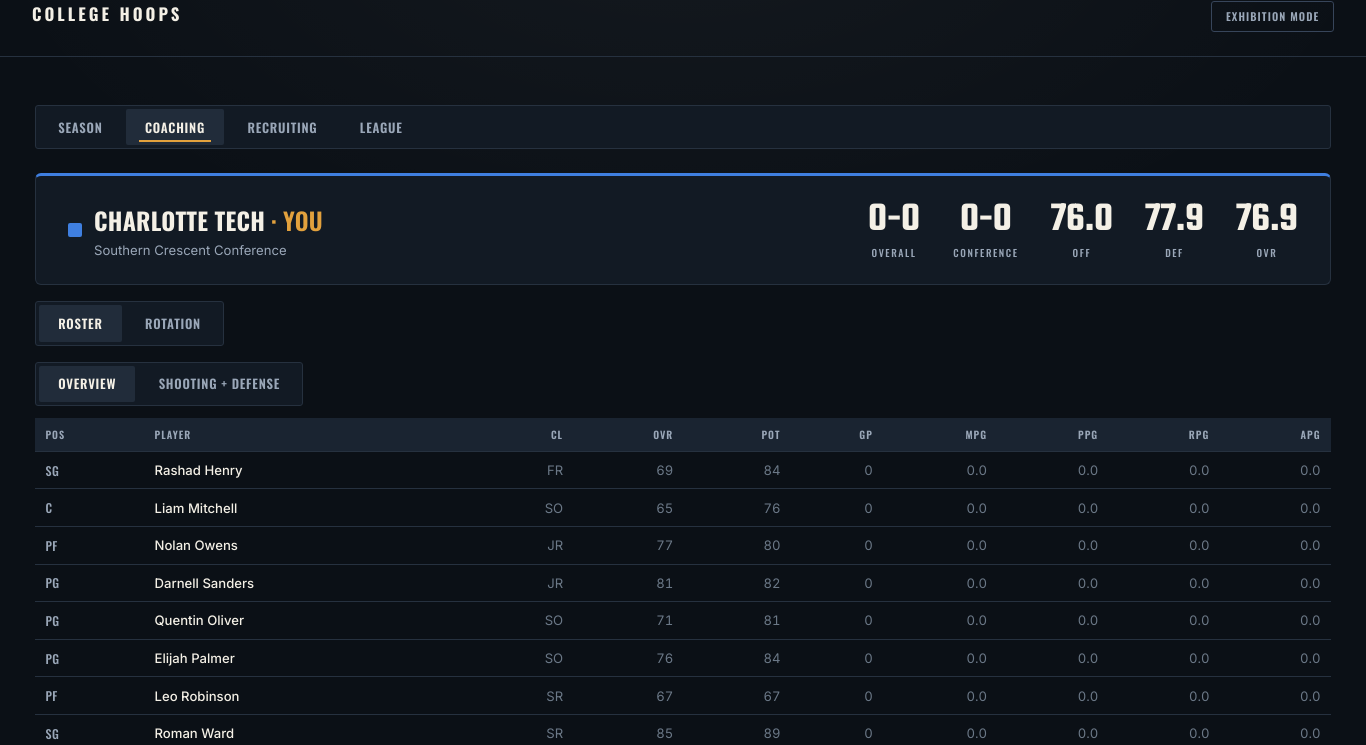
Scenario: Coaching Rotation — Simple / Advanced › discards an uncommitted Simple edit back to the committed Rotation
Click the button "Rotation" at point(173, 323), box top-left (126, 305), bottom-right (220, 342)
(page scrolled)
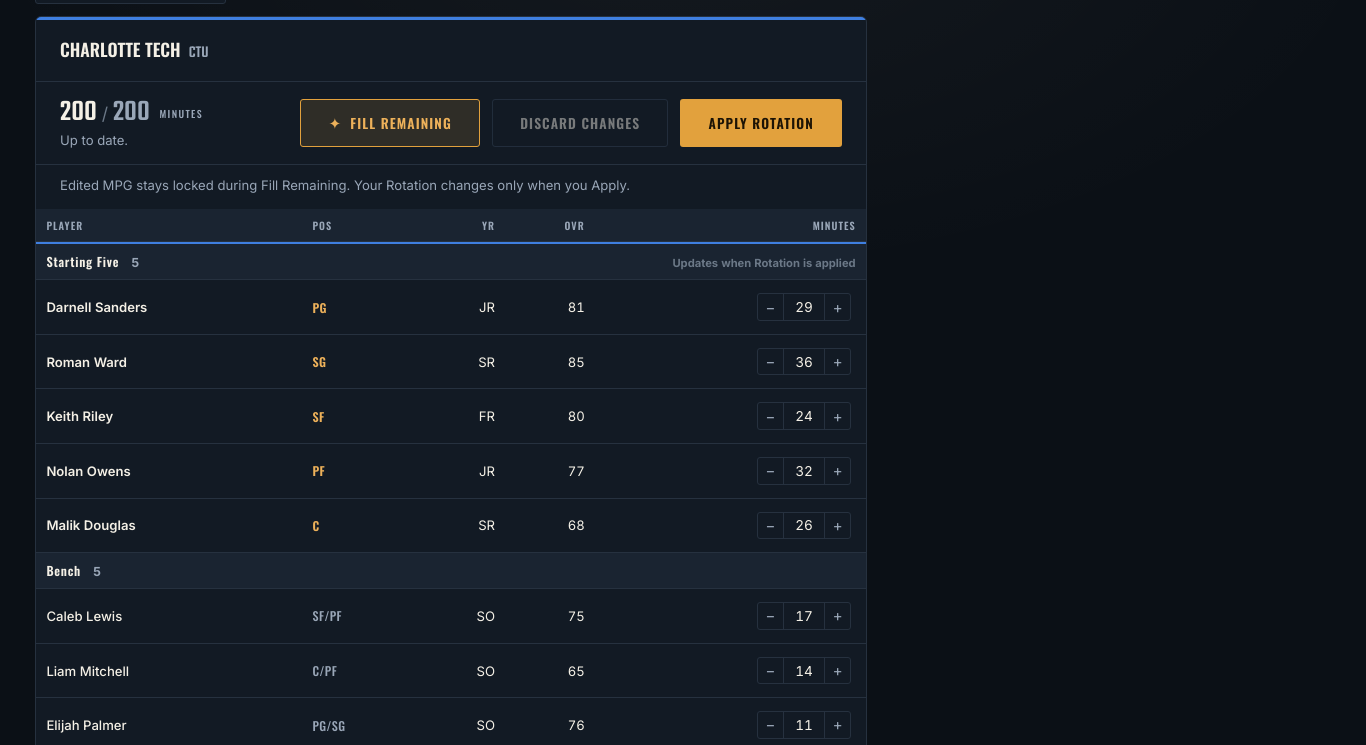
Click the button "+" in the row of "85" at point(838, 362), box top-left (825, 349), bottom-right (850, 374)
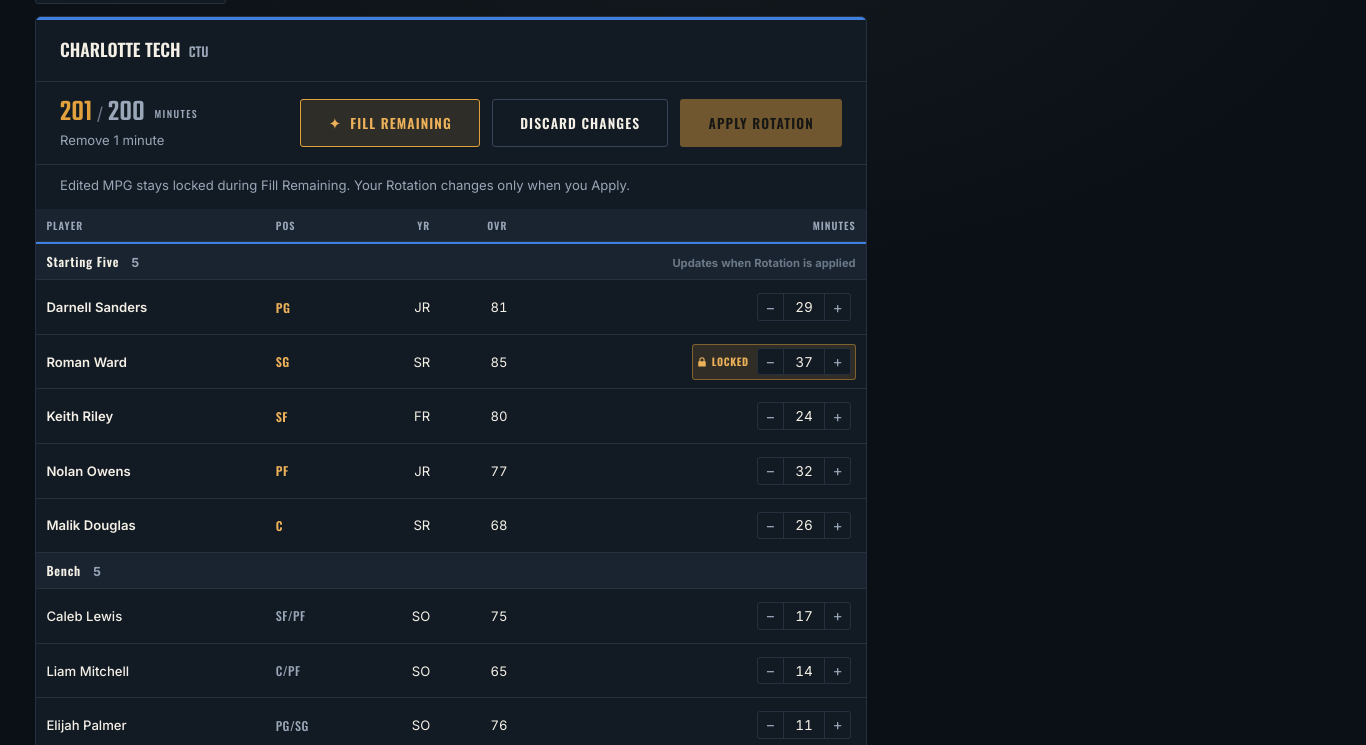
Now the button "Discard Changes" is enabled
Click the button "Discard Changes" at point(580, 123), box top-left (492, 99), bottom-right (668, 147)
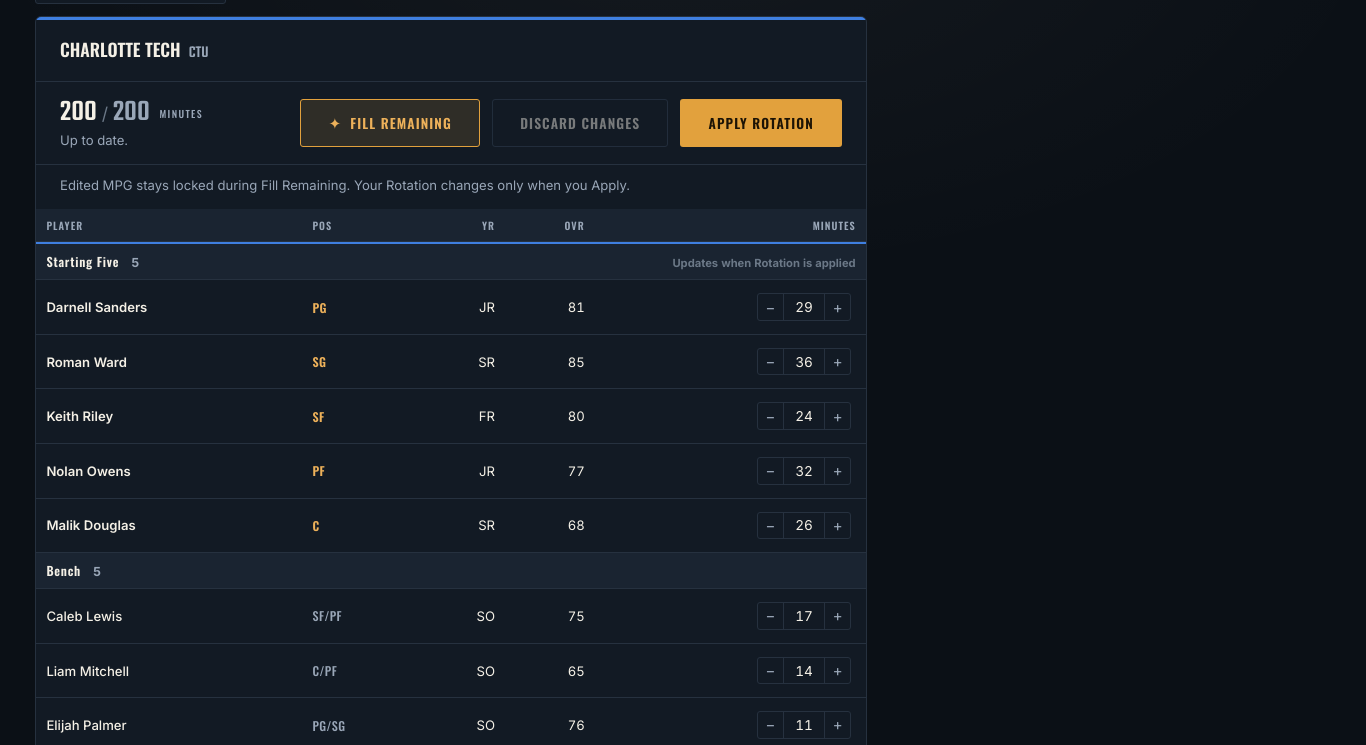
Now the button "Discard Changes" is disabled, box top-left (492, 99), bottom-right (668, 147)
